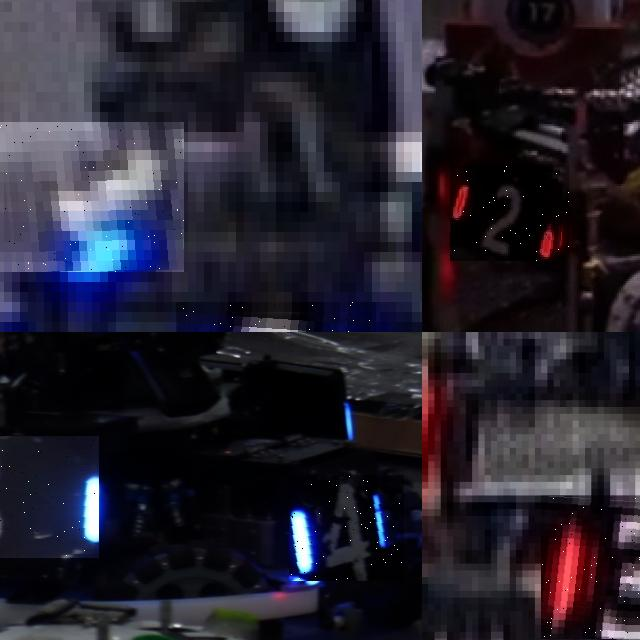B3: (0, 122, 184, 272), (0, 435, 99, 558), (176, 302, 376, 332)
B4: (290, 475, 406, 581)
R2: (450, 165, 570, 261)
R3: (541, 495, 640, 638)
